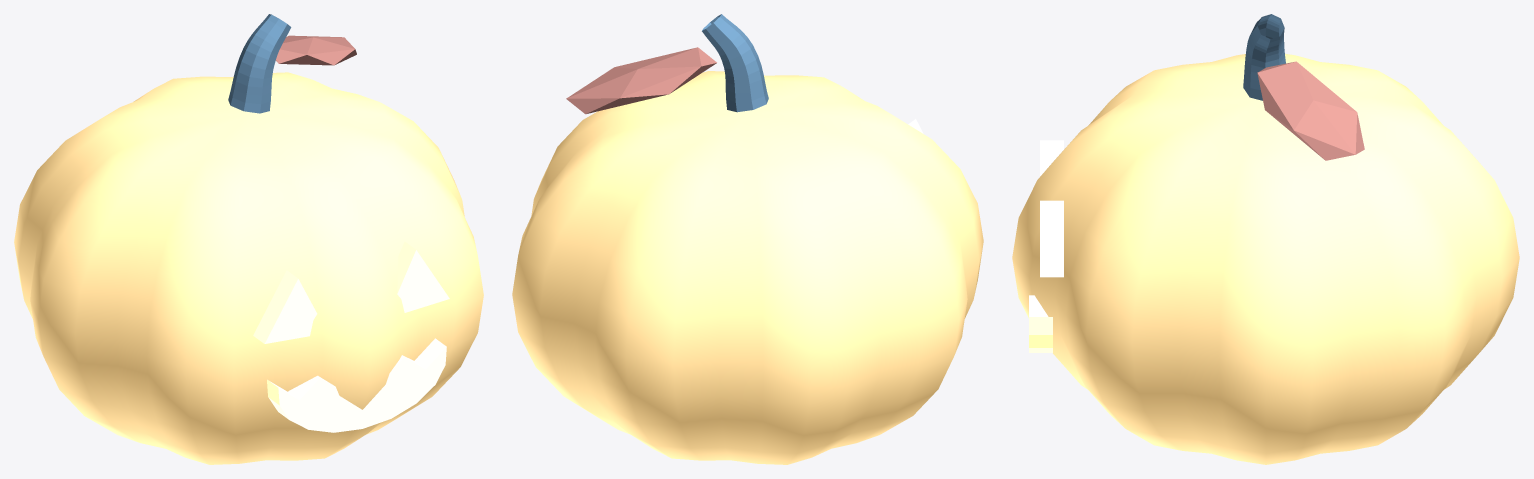
Rendered from halloween_pumpkin.glb.
The picture shows the model from 3 angles, left to right: view 1: azimuth 30°, elevation 25°; view 2: azimuth 150°, elevation 25°; view 3: azimuth 270°, elevation 25°; orthographic projection. The views are drawn at different scales.
Visible parts, largest first — view 1: Pumpkin, Glow; view 2: Pumpkin; view 3: Pumpkin, Glow.
Part boxes in pixels (x1,y1,x2,y2): Pumpkin: (14, 14, 483, 464); Glow: (253, 241, 449, 432); Pumpkin: (512, 14, 983, 464); Pumpkin: (1012, 14, 1519, 464); Glow: (1029, 140, 1063, 352).
Bounding box in the file's own units: 0.9 × 0.8173 × 0.9.
